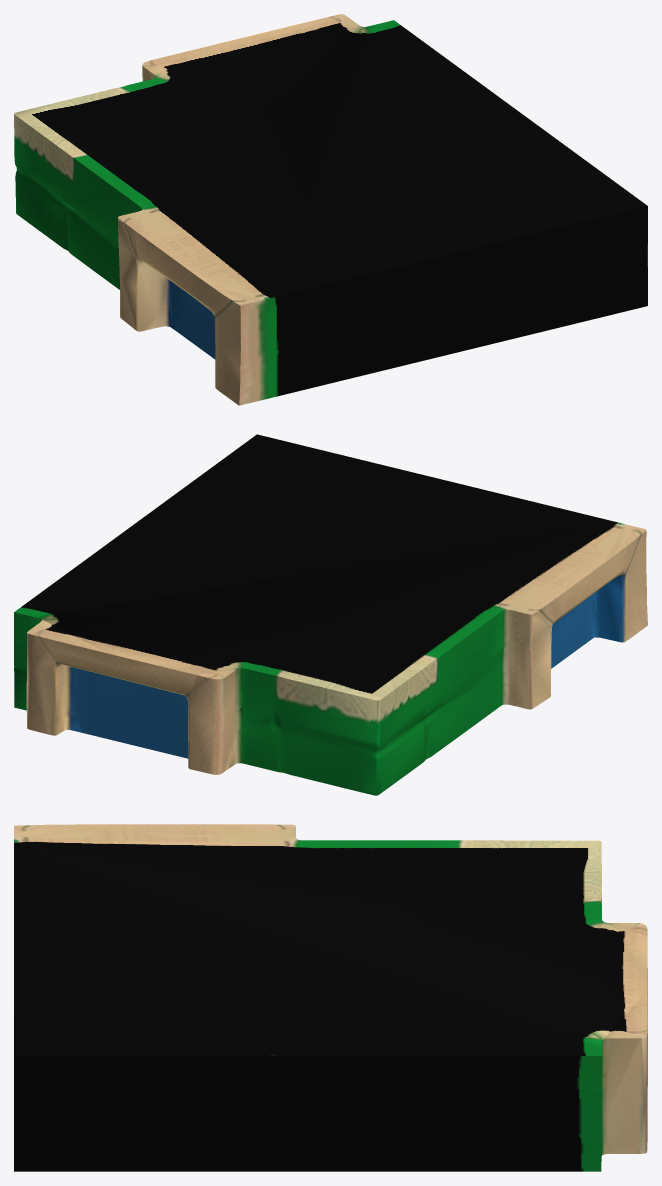
The model's file is 11-roof-back-left.fbx.
3 views of the same model, one above another, from view 1: azimuth 30°, elevation 25°; view 2: azimuth 150°, elevation 25°; view 3: azimuth 270°, elevation 25° (orthographic). The views are drawn at different scales.
Parts seen in each view (by area): view 1: roof-back-left; view 2: roof-back-left; view 3: roof-back-left.
Part boxes in pixels (box(x1,y1,x2,y2)): roof-back-left: box(14, 14, 647, 405); roof-back-left: box(14, 434, 647, 795); roof-back-left: box(14, 824, 647, 1171).
Bounding box in the file's own units: 3506 × 815 × 4047.
Materials: 1 (1 with a texture image).
